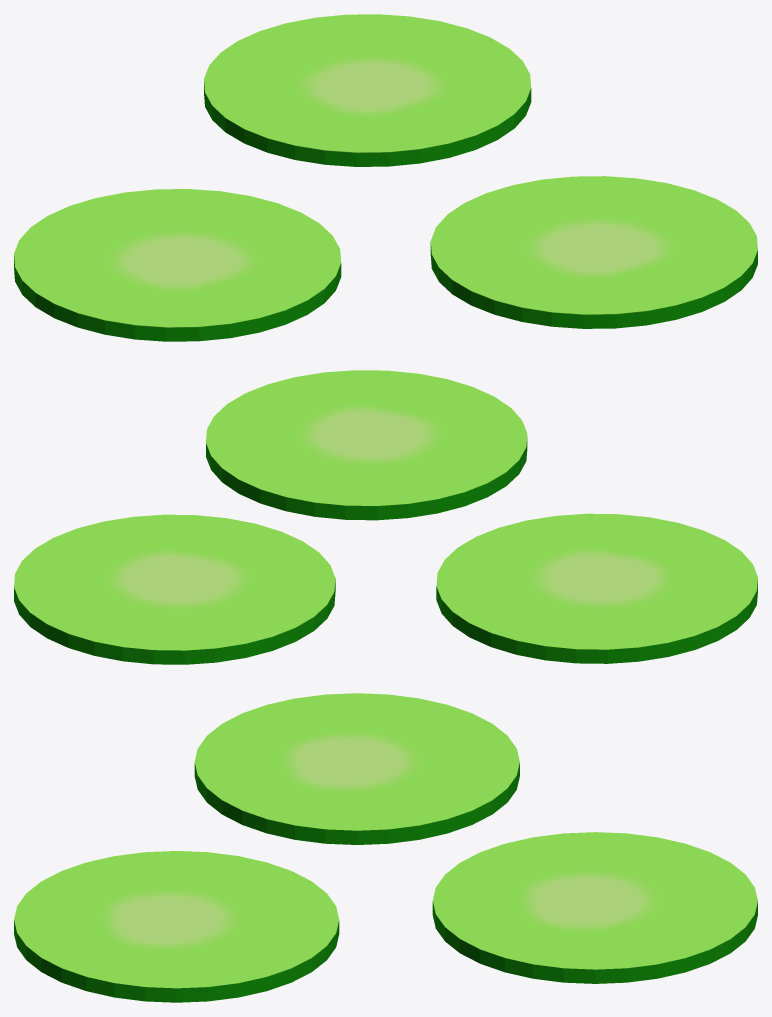
Rendered from picklesblend.fbx.
3 views of the same model, one above another, from view 1: azimuth 30°, elevation 25°; view 2: azimuth 150°, elevation 25°; view 3: azimuth 270°, elevation 25° (orthographic).
Visible parts, largest first — view 1: Cylinder.002, Cylinder.001, Cylinder.003; view 2: Cylinder.001, Cylinder.002, Cylinder.003; view 3: Cylinder.002, Cylinder.003, Cylinder.001.
Boxes of the visible parts, box(x1,y1,x2,y2) form: Cylinder.002: box(430, 176, 757, 328); Cylinder.001: box(204, 14, 531, 166); Cylinder.003: box(14, 189, 341, 341); Cylinder.001: box(14, 514, 335, 664); Cylinder.002: box(206, 370, 527, 520); Cylinder.003: box(436, 513, 757, 663); Cylinder.002: box(14, 851, 339, 1002); Cylinder.003: box(194, 693, 519, 844); Cylinder.001: box(432, 832, 757, 983).
Bounding box in the file's own units: 97.44 × 3.94 × 104.
Materials: 1 (1 with a texture image).
